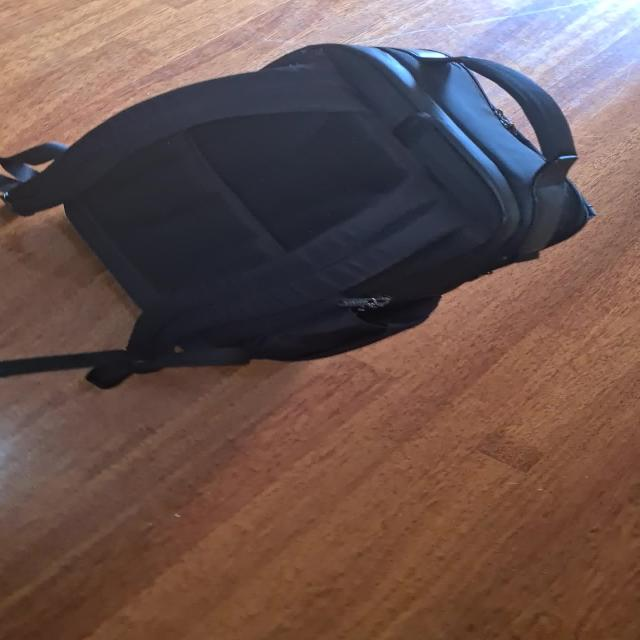backpack: (9, 28, 610, 374)
